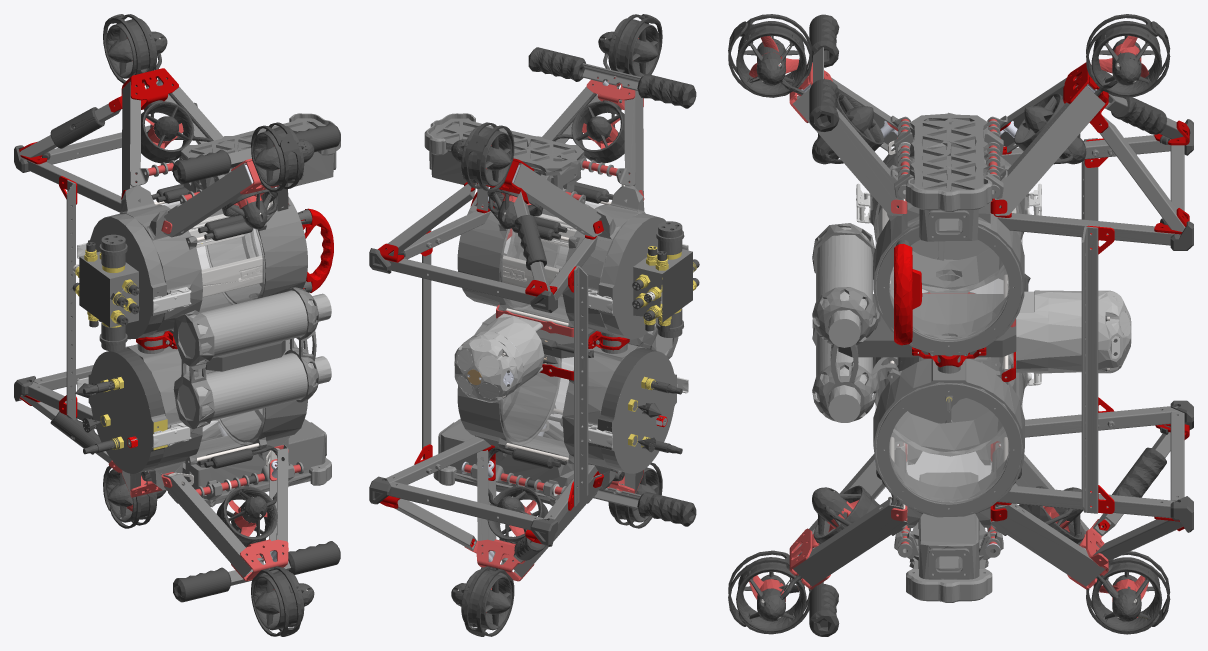
Rendered from talos.glb.
3 views of the same model, side by side, from view 1: azimuth 30°, elevation 25°; view 2: azimuth 150°, elevation 25°; view 3: azimuth 270°, elevation 25° (orthographic). The views are drawn at different scales.
Parts seen in each view (by area): view 1: part_0, part_3, part_7, part_18, part_2, part_9, part_8, part_4, part_22, part_15, part_24, part_6 (+2 smaller); view 2: part_0, part_3, part_7, part_2, part_11, part_9, part_22, part_21, part_8, part_6, part_4, part_5 (+5 smaller); view 3: part_0, part_2, part_3, part_7, part_11, part_6, part_18, part_9, part_8, part_22, part_24, part_21 (+1 smaller).
Part boxes in pixels (x1,y1,x2,y2): part_0: (20,78,336,585); part_3: (72,18,314,630); part_7: (42,14,340,636); part_18: (178,290,331,423); part_2: (164,154,334,456); part_9: (108,38,300,589); part_8: (99,209,312,371); part_4: (72,38,307,590); part_22: (19,68,178,405); part_15: (77,243,191,448); part_24: (59,176,333,417); part_6: (127,113,340,497); part_0: (384,63,692,577); part_3: (370,18,699,630); part_7: (398,14,696,636); part_2: (431,164,601,456); part_11: (454,313,544,402); part_9: (464,38,644,612); part_22: (378,158,629,547); part_21: (369,54,613,546); part_8: (454,221,684,397); part_6: (424,113,666,495); part_4: (457,38,655,590); part_5: (628,246,696,447); part_0: (793,47,1185,586); part_2: (875,203,1022,574); part_3: (736,21,1193,632); part_7: (728,14,1170,636); part_11: (761,142,1131,602); part_6: (875,120,1022,602); part_18: (816,227,872,422); part_9: (749,35,1149,617); part_8: (838,240,1117,371); part_22: (912,62,1189,531); part_24: (894,138,1114,513); part_21: (781,80,1193,532).
Bounding box in the file's own units: 0.4765 × 0.9252 × 0.6392.
